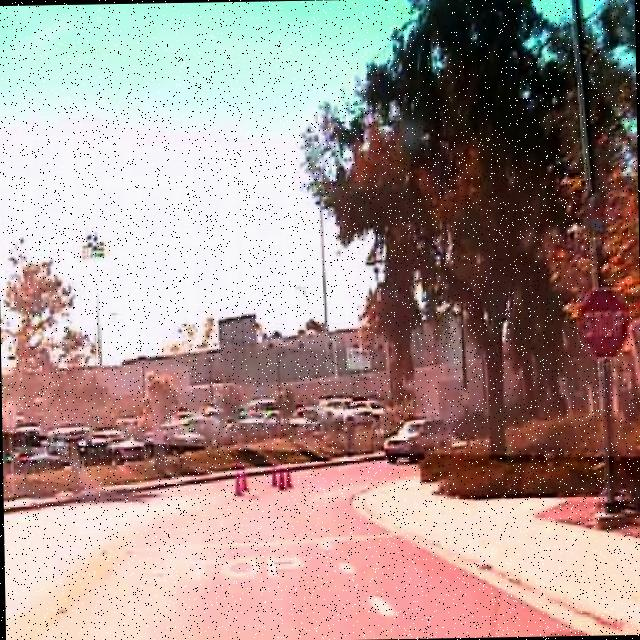Stop: (576, 284, 630, 360)
